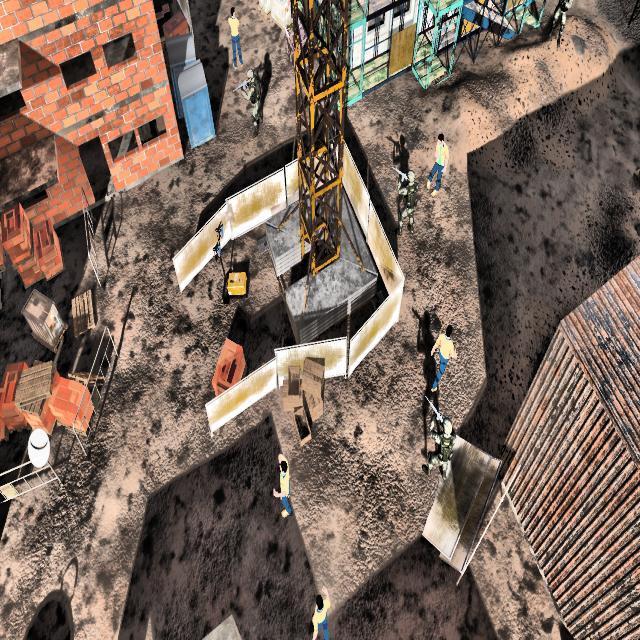bad: (420, 394, 460, 490), (390, 159, 422, 241), (239, 66, 267, 138), (547, 0, 573, 53)
good: (426, 310, 459, 397), (266, 438, 296, 520), (303, 572, 337, 640), (424, 126, 453, 202), (223, 0, 247, 76)
